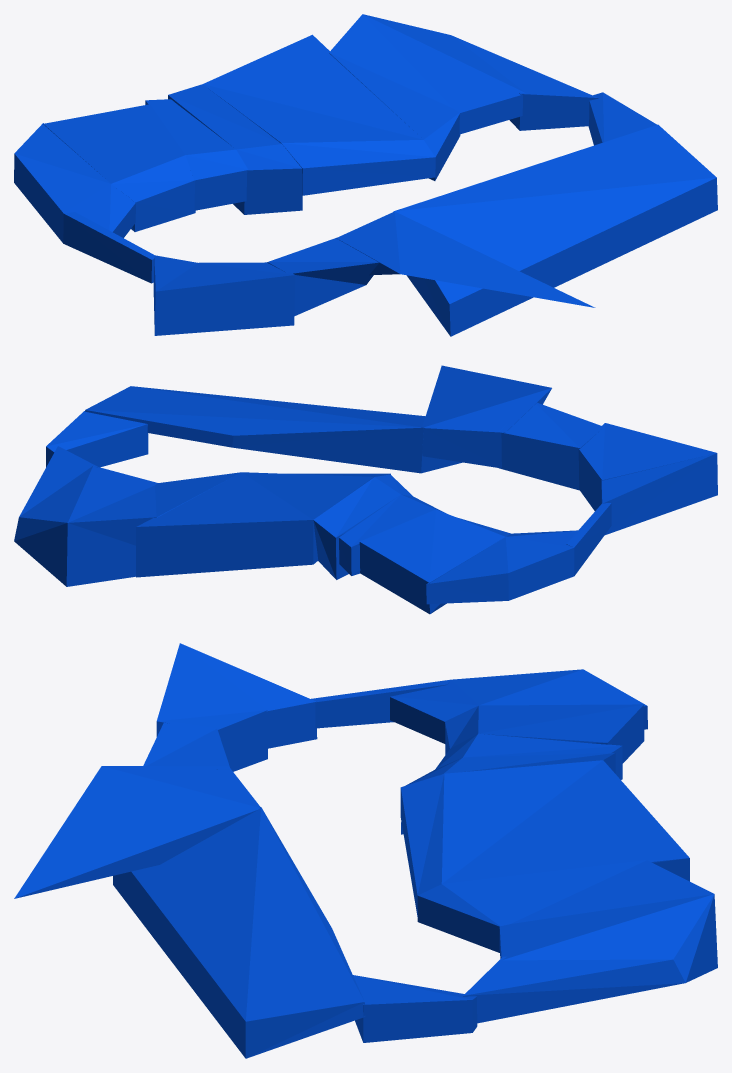
File: hole-two-walls-v2.glb
3 views of the same model, one above another, from view 1: azimuth 30°, elevation 25°; view 2: azimuth 150°, elevation 25°; view 3: azimuth 270°, elevation 25° (orthographic). The views are drawn at different scales.
Visible parts, largest first — view 1: hole 2 floor.021, hole 2 floor.016, hole 2 floor.013, hole 2 floor.009, hole 2 floor.006, hole 2 floor.018, hole 2 floor.012, hole 2 floor.017, hole 2 floor.007, hole 2 floor.014, hole 2 floor.008, hole 2 floor.019 (+3 smaller); view 2: hole 2 floor.021, hole 2 floor.016, hole 2 floor.006, hole 2 floor.013, hole 2 floor.017, hole 2 floor.012, hole 2 floor.018, hole 2 floor.008, hole 2 floor.010, hole 2 floor.009, hole 2 floor.020, hole 2 floor.007 (+3 smaller); view 3: hole 2 floor.021, hole 2 floor.016, hole 2 floor.006, hole 2 floor.017, hole 2 floor.018, hole 2 floor.019, hole 2 floor.012, hole 2 floor.009, hole 2 floor.013, hole 2 floor.020, hole 2 floor.010, hole 2 floor.014 (+3 smaller).
Boxes of the visible parts, x1,y1,x2,y2 form: hole 2 floor.021: [393, 124, 717, 336]; hole 2 floor.016: [203, 34, 435, 195]; hole 2 floor.013: [43, 104, 195, 231]; hole 2 floor.009: [154, 262, 295, 335]; hole 2 floor.006: [336, 212, 595, 307]; hole 2 floor.018: [363, 14, 525, 134]; hole 2 floor.012: [14, 123, 135, 243]; hole 2 floor.017: [329, 14, 460, 180]; hole 2 floor.007: [168, 84, 302, 214]; hole 2 floor.014: [145, 99, 248, 210]; hole 2 floor.008: [267, 236, 379, 316]; hole 2 floor.019: [452, 35, 598, 130]; hole 2 floor.021: [85, 386, 462, 473]; hole 2 floor.016: [136, 472, 390, 577]; hole 2 floor.006: [422, 365, 551, 468]; hole 2 floor.013: [359, 509, 510, 614]; hole 2 floor.017: [66, 472, 240, 586]; hole 2 floor.012: [426, 530, 577, 604]; hole 2 floor.018: [14, 465, 157, 586]; hole 2 floor.008: [498, 402, 601, 490]; hole 2 floor.010: [601, 453, 717, 534]; hole 2 floor.009: [578, 423, 716, 510]; hole 2 floor.020: [46, 411, 148, 467]; hole 2 floor.007: [313, 474, 412, 579]; hole 2 floor.021: [113, 807, 365, 1058]; hole 2 floor.016: [400, 760, 689, 917]; hole 2 floor.006: [14, 766, 260, 898]; hole 2 floor.017: [417, 860, 713, 952]; hole 2 floor.018: [499, 894, 717, 982]; hole 2 floor.019: [463, 956, 685, 1023]; hole 2 floor.012: [390, 669, 647, 743]; hole 2 floor.009: [156, 643, 267, 771]; hole 2 floor.013: [445, 704, 644, 763]; hole 2 floor.020: [353, 975, 477, 1042]; hole 2 floor.010: [180, 643, 317, 748]; hole 2 floor.014: [435, 733, 622, 779].
Size of the model in its own units: 28.76 by 4.57 by 26.57.
